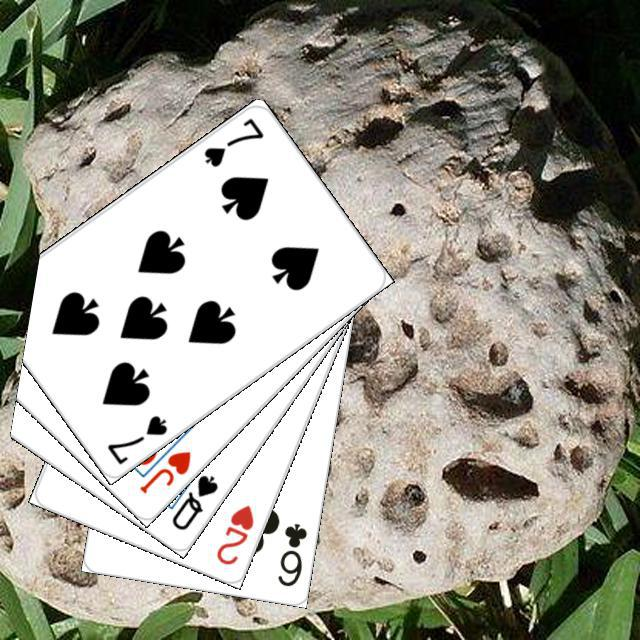2h: (211, 500, 256, 567)
6c: (272, 518, 309, 589)
7s: (102, 410, 170, 466), (198, 113, 266, 169)
Jh: (134, 446, 193, 496)
Qs: (166, 469, 220, 532)
